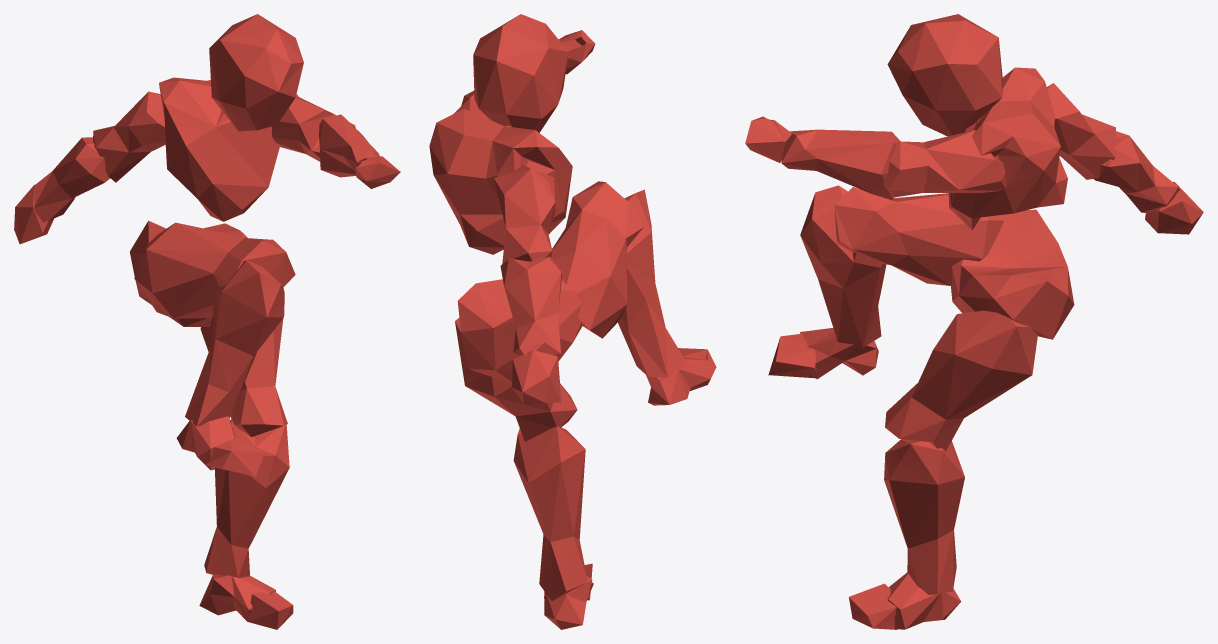
Rendered from 2dancer0162.obj.
3 renders of one model, left to right at view 1: azimuth 30°, elevation 25°; view 2: azimuth 150°, elevation 25°; view 3: azimuth 270°, elevation 25°, orthographic. The views are drawn at different scales.
Parts seen in each view (by area): view 1: Beta_Surface; view 2: Beta_Surface; view 3: Beta_Surface.
Boxes of the visible parts, box(x1,y1,x2,y2) form: Beta_Surface: box(14, 14, 400, 629); Beta_Surface: box(429, 14, 716, 629); Beta_Surface: box(745, 14, 1203, 629).
Size of the model in its own units: 0.6889 by 1.76 by 1.17.
